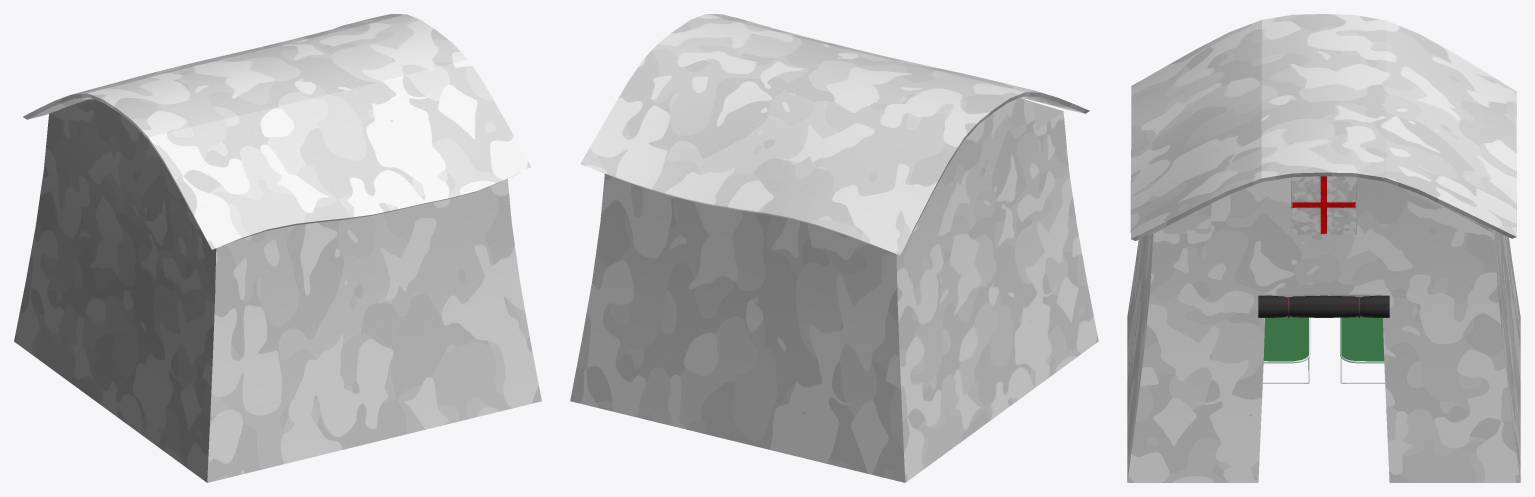
File: Hospital.fbx
The picture shows the model from 3 angles, left to right: view 1: azimuth 30°, elevation 25°; view 2: azimuth 150°, elevation 25°; view 3: azimuth 270°, elevation 25°; orthographic projection.
Visible parts, largest first — view 1: Hospital_LOD0; view 2: Hospital_LOD0; view 3: Hospital_LOD0.
Part boxes in pixels (x1,y1,x2,y2): Hospital_LOD0: (14, 14, 541, 482); Hospital_LOD0: (570, 14, 1098, 482); Hospital_LOD0: (1127, 14, 1520, 482).
Size of what is drawn, in the model's own units: 600 by 516 by 599.
